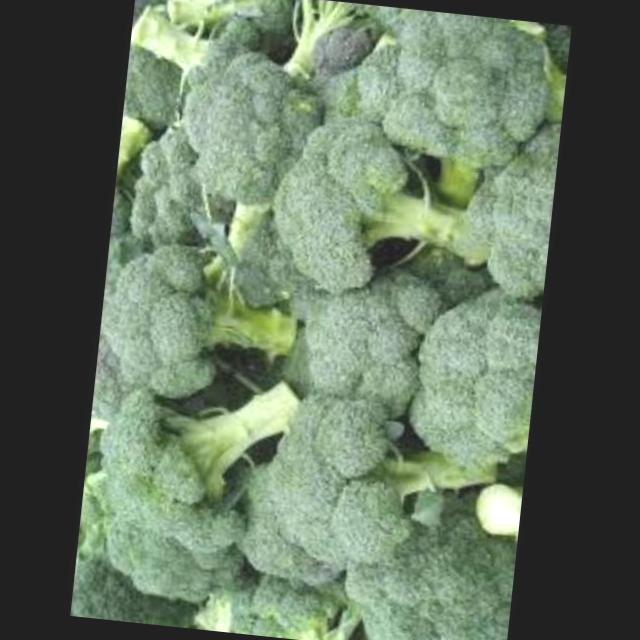Broccoli: (72, 0, 571, 640)
